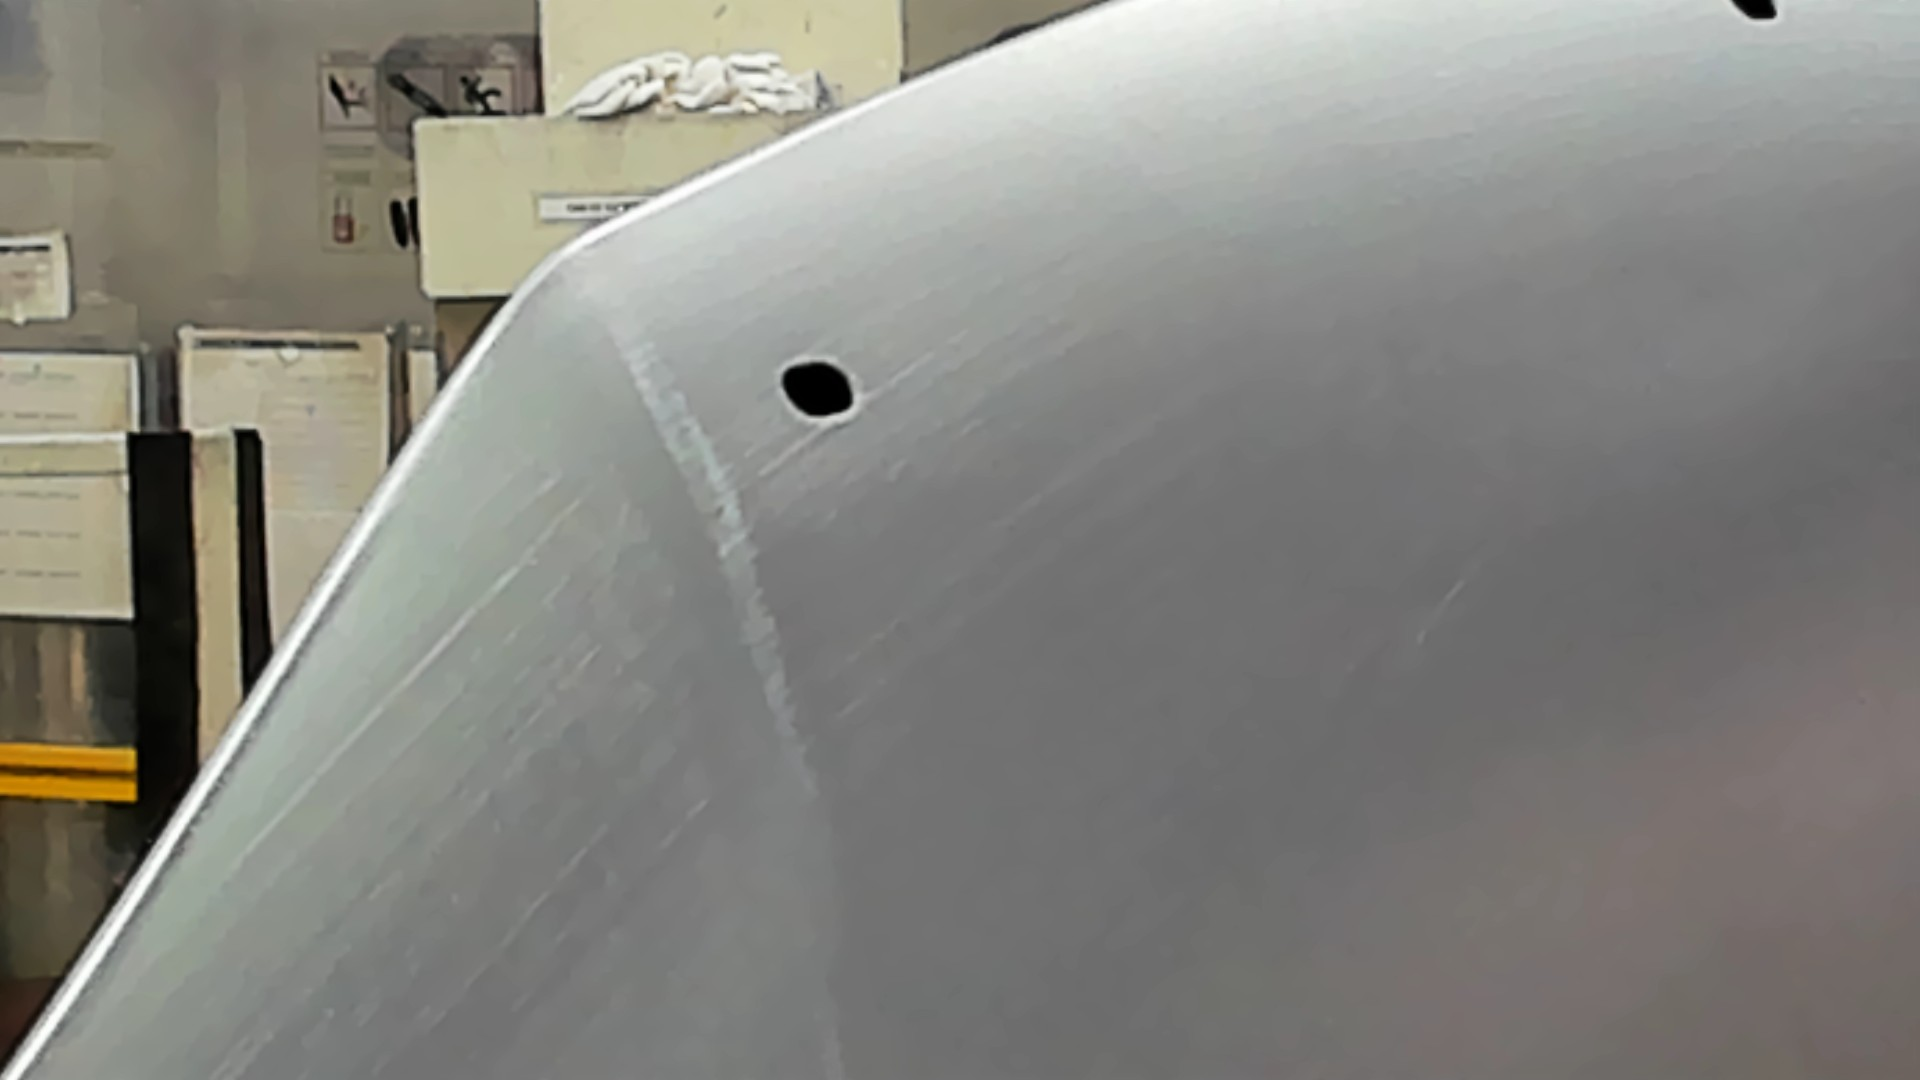amorfo: (769, 353, 873, 422), (1716, 1, 1797, 22)
